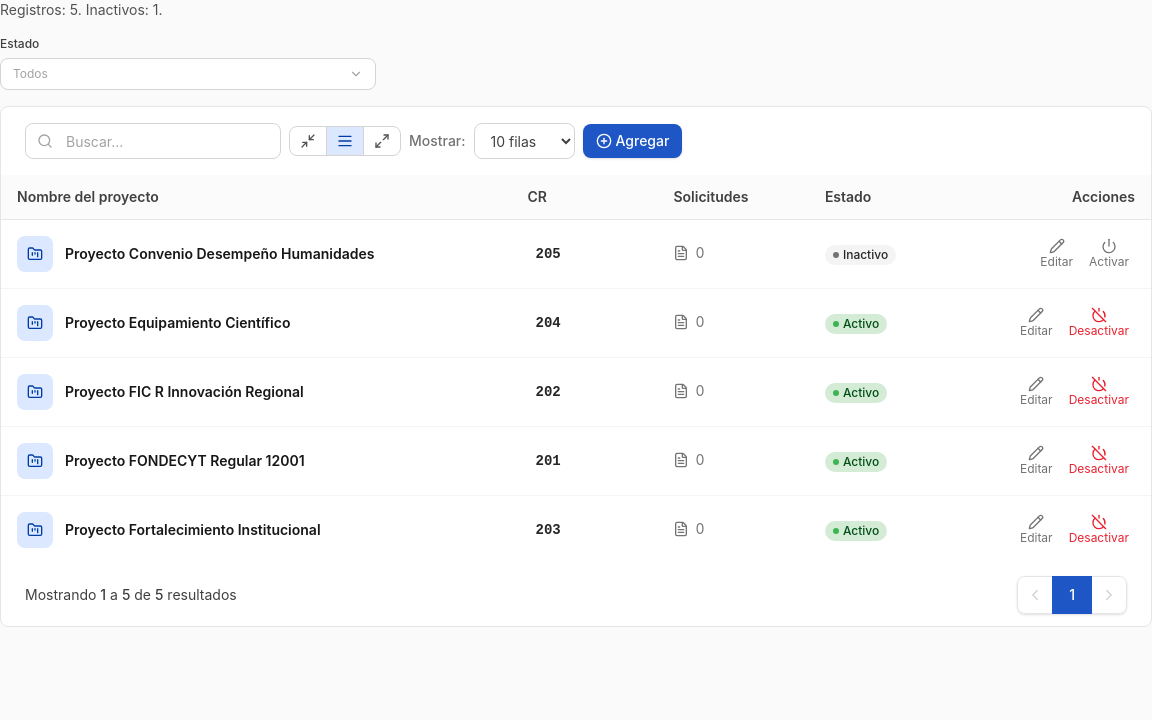
SeccionProyectos › permite abrir el modal para registrar un nuevo proyecto
Step 1. Click the button "Agregar" → (632, 141), box [582,124,682,158]
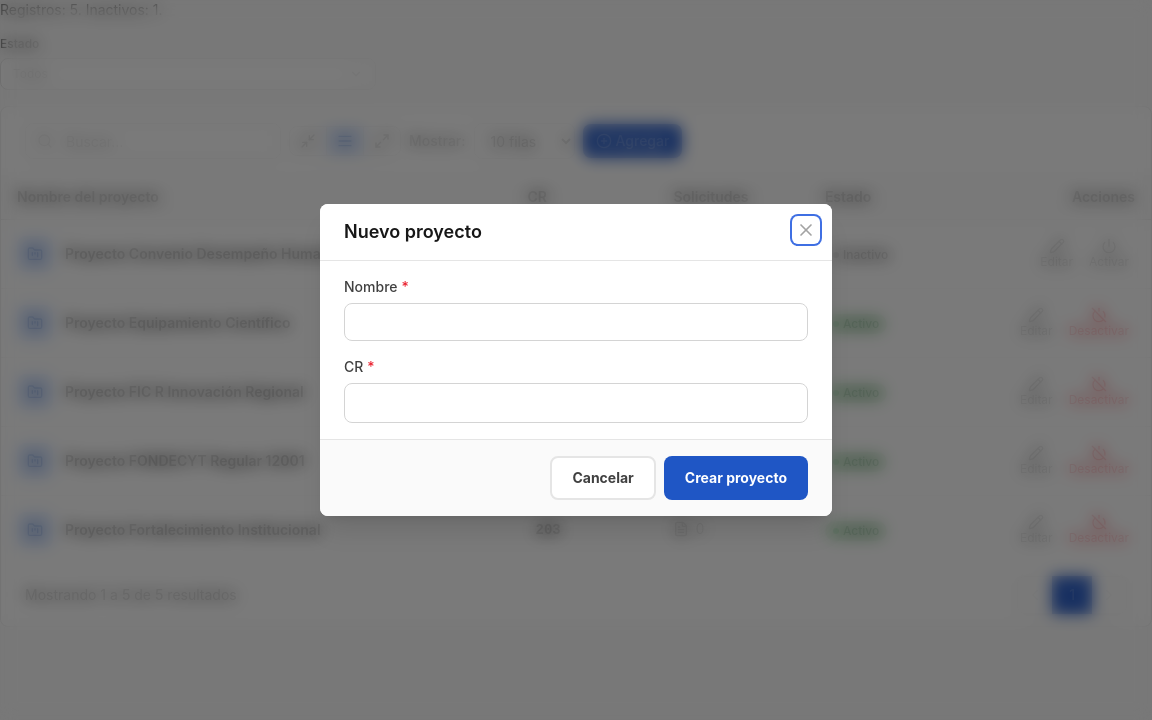
Result: the heading "Nuevo proyecto" is shown at [344,220,482,244]
